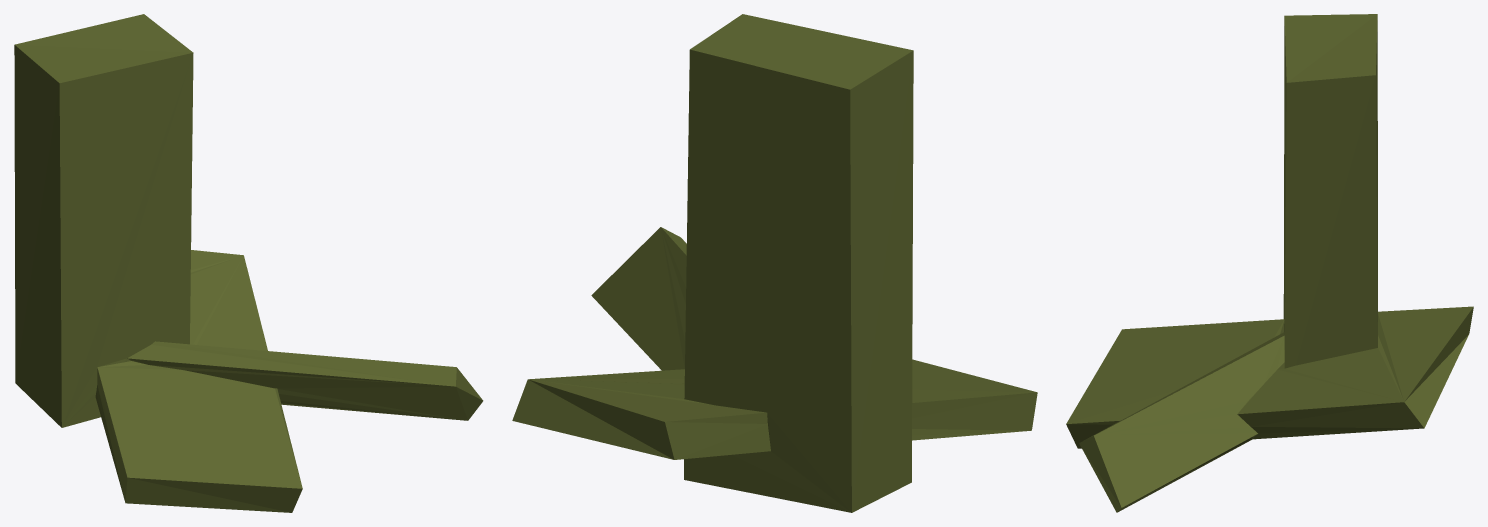
3 renders of one model, left to right at view 1: azimuth 30°, elevation 25°; view 2: azimuth 150°, elevation 25°; view 3: azimuth 270°, elevation 25°, orthographic. The views are drawn at different scales.
Visible parts, largest first — view 1: 663_Cube.2666; view 2: 663_Cube.2666; view 3: 663_Cube.2666.
Boxes of the visible parts, bbox=[...] form: 663_Cube.2666: bbox=[14, 14, 483, 512]; 663_Cube.2666: bbox=[512, 14, 1037, 512]; 663_Cube.2666: bbox=[1066, 14, 1473, 512].
Bounding box in the file's own units: 12.96 × 13.43 × 13.21.
